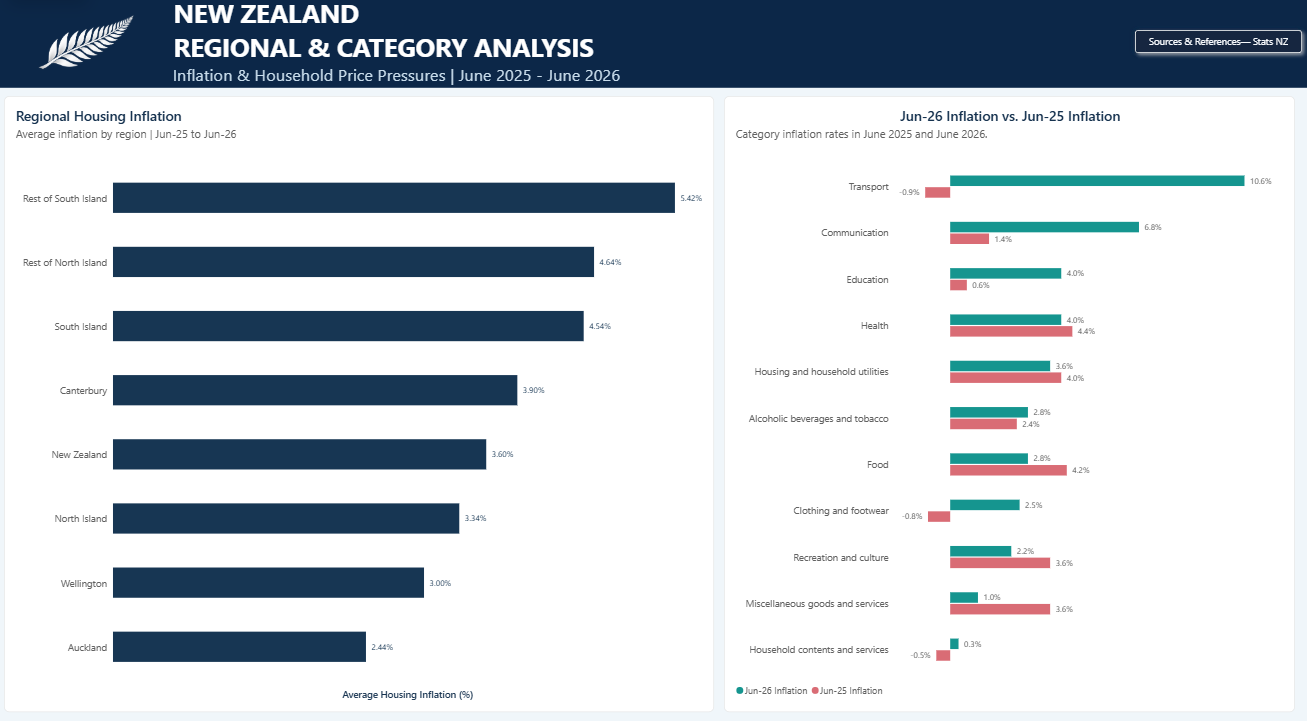

What the dashboard file says about the page in this screenshot:
{"tool":"powerbi","page":{"name":"Regional & Category Analysis","canvas":[1920,1080],"ordinal":1},"visuals":[{"type":"shape","box":[0,0,1920.1,133.9],"z":0},{"type":"textbox","box":[0,0,1920.6,134.3],"z":1000},{"type":"image","box":[0,0,248.7,134.3],"z":2000},{"type":"clusteredBarChart","title":"Regional Housing Inflation","fields":{"Category":["nz_cost_of_living cpi_regional.Region"],"Y":["nz_cost_of_living cpi_inflation.Average Regional Inflation"]},"box":[10.2,145.9,1035.9,898.7],"z":2001},{"type":"clusteredBarChart","title":"Jun-26 Inflation vs. Jun-25 Inflation","fields":{"Category":["nz_cost_of_living cpi_inflation.Category Match"],"Y":["nz_cost_of_living cpi_inflation.Jun-26 Inflation","nz_cost_of_living cpi_inflation.Jun-25 Inflation"]},"box":[1060.7,145.9,833.1,898.7],"z":2003},{"type":"actionButton","box":[1652.2,41.1,261.1,51.1],"z":2004}]}

Visuals, with their boxes in screenshot pixels (x1, y1, x2, y2), scaled from the page's 1920x1080 canvas onto the 1307x721 screenshot:
shape: box=[0, 0, 1306, 89]
textbox: box=[0, 0, 1306, 90]
image: box=[0, 0, 169, 90]
"Regional Housing Inflation" clusteredBarChart: box=[7, 97, 712, 697]
"Jun-26 Inflation vs. Jun-25 Inflation" clusteredBarChart: box=[722, 97, 1289, 697]
actionButton: box=[1125, 27, 1302, 62]
